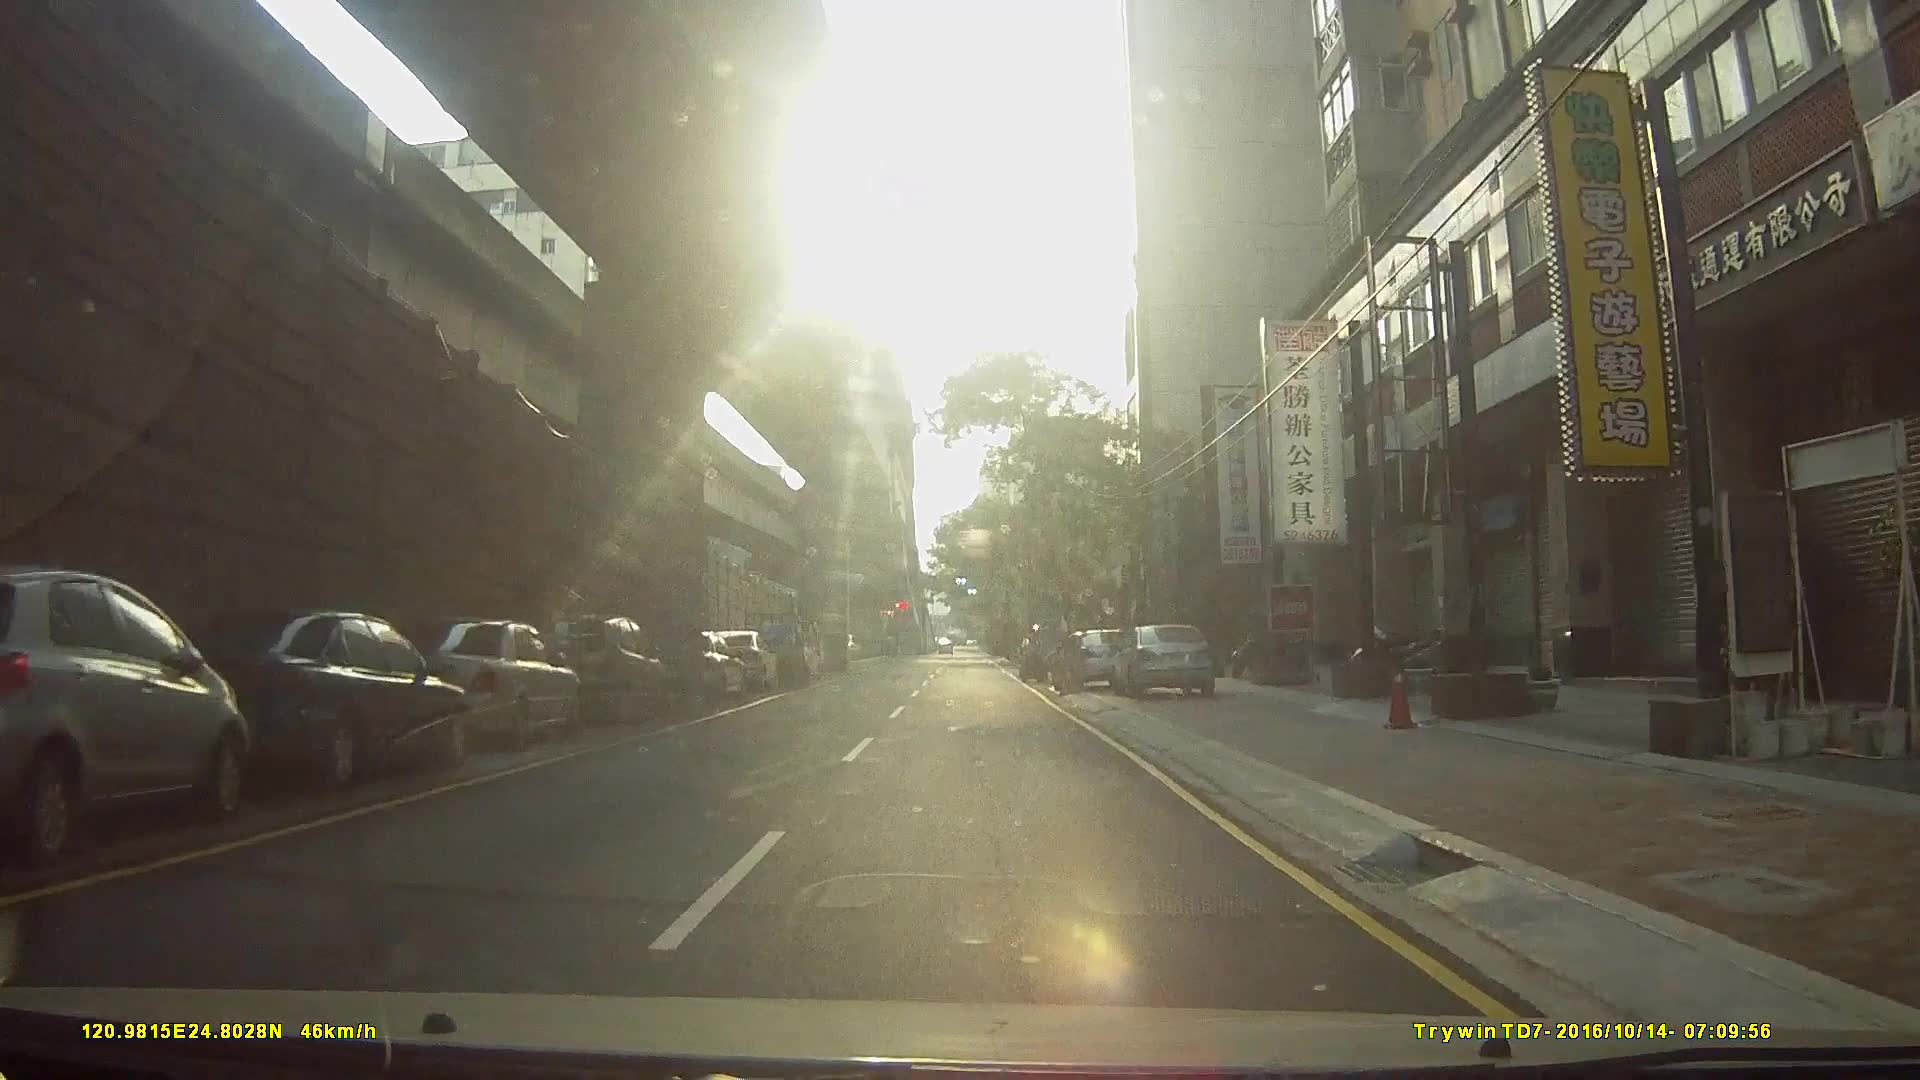rider: (1014, 622, 1047, 678)
vehicle: (1, 556, 262, 874), (152, 604, 458, 795), (388, 613, 576, 749), (521, 609, 667, 728), (1109, 619, 1218, 696), (1048, 626, 1132, 693), (699, 626, 777, 695), (739, 602, 803, 681)
